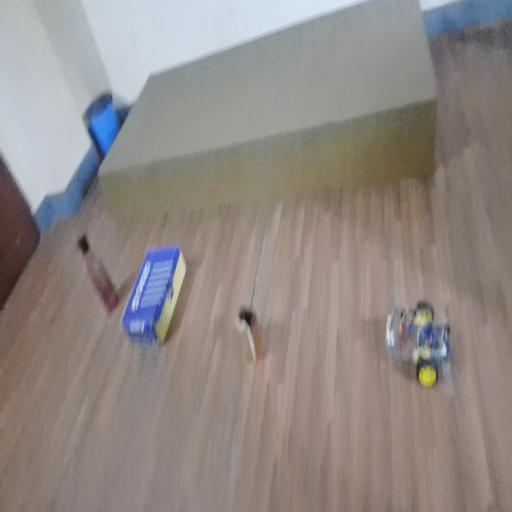Bottle: (71, 225, 123, 309)
car: (387, 288, 458, 378)
